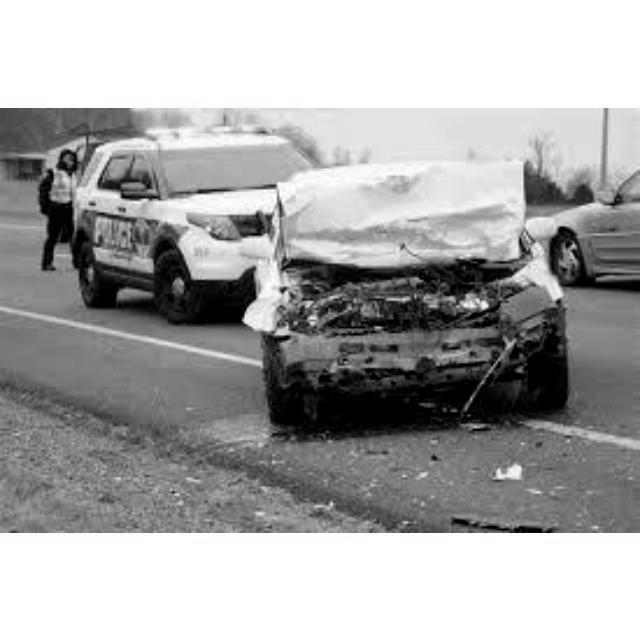bonnet-dent: (278, 161, 517, 265)
front-bumper-dent: (320, 328, 543, 381)
